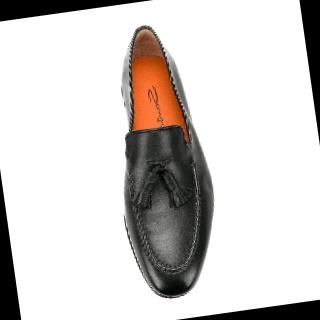loafers: (89, 11, 235, 310)
